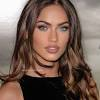no_mask: (20, 1, 78, 69)
